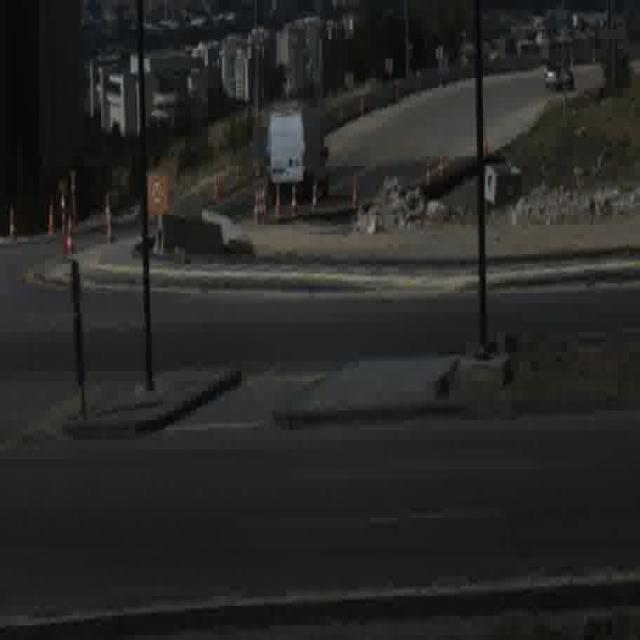Car: (269, 105, 330, 203), (542, 61, 573, 90)
